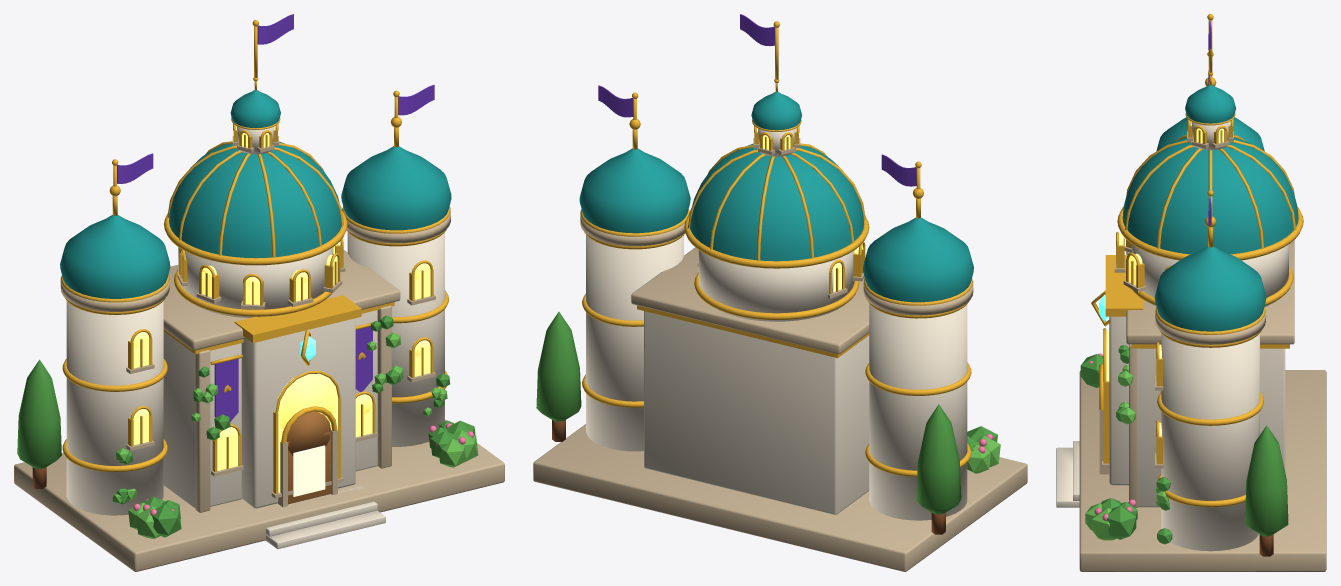
The model's file is palat_5.glb.
3 views of the same model, side by side, from view 1: azimuth 30°, elevation 25°; view 2: azimuth 150°, elevation 25°; view 3: azimuth 270°, elevation 25° (orthographic).
Visible parts, largest first — view 1: Palat.001; view 2: Palat.001; view 3: Palat.001.
Boxes of the visible parts, x1,y1,x2,y2 form: Palat.001: (14, 14, 504, 571); Palat.001: (533, 14, 1027, 571); Palat.001: (1056, 14, 1326, 571).
Size of the model in its own units: 6.51 by 6.89 by 3.61.
